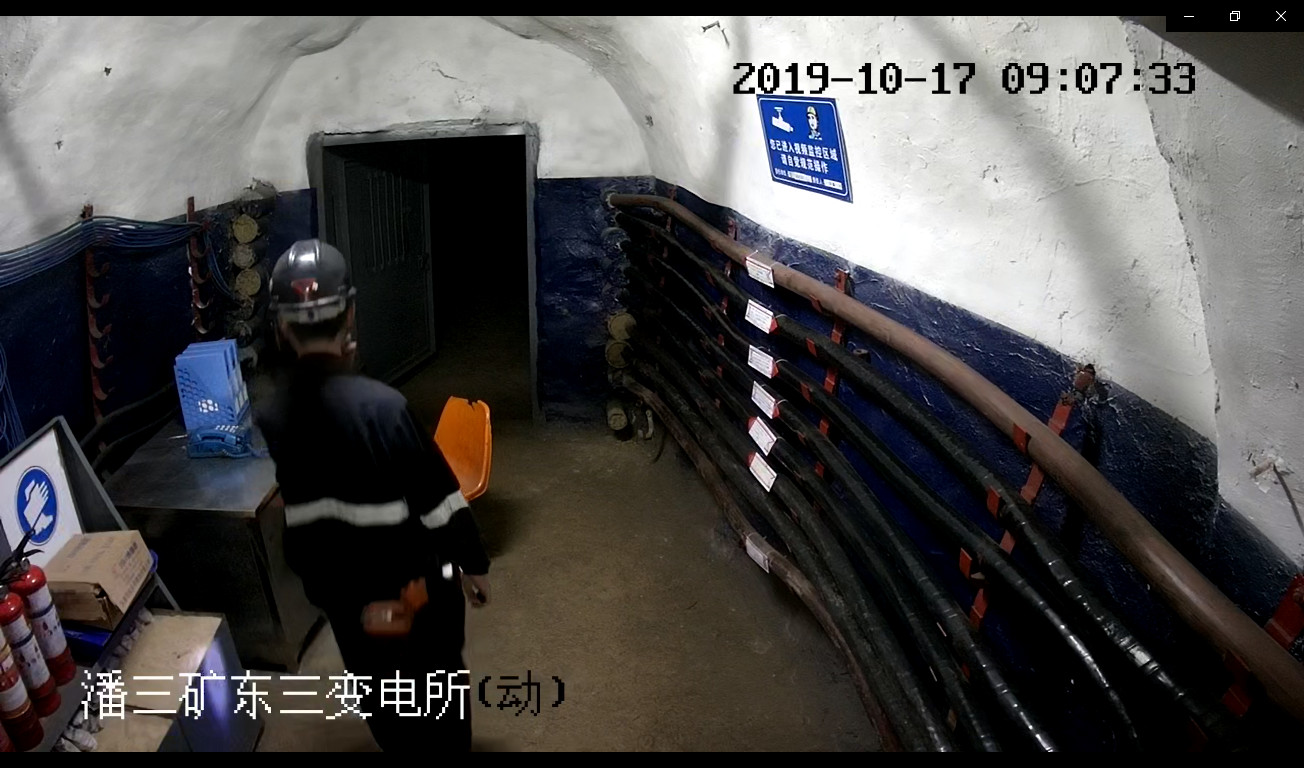helmet: (269, 239, 359, 310)
